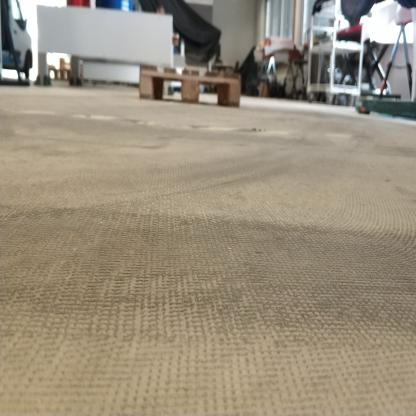BoxFace: (133, 59, 246, 114)
